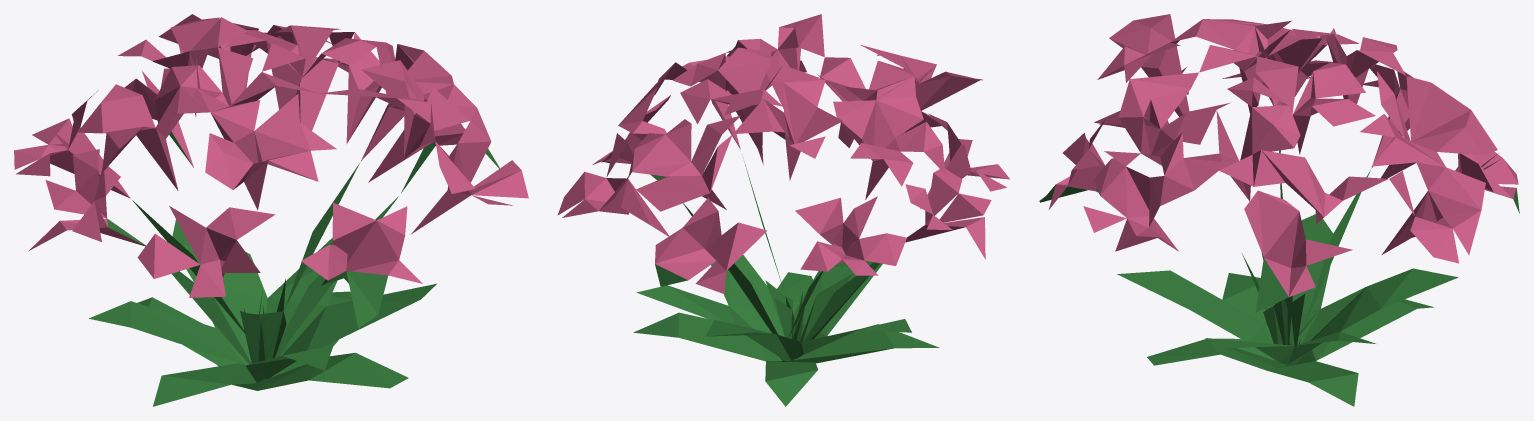
File: flower-1.glb
3 renders of one model, left to right at view 1: azimuth 30°, elevation 25°; view 2: azimuth 150°, elevation 25°; view 3: azimuth 270°, elevation 25°, orthographic. The views are drawn at different scales.
Parts seen in each view (by area): view 1: output_unwrapped; view 2: output_unwrapped; view 3: output_unwrapped.
Boxes of the visible parts, <box> form: output_unwrapped: <box>14,14,528,406</box>; output_unwrapped: <box>557,14,1009,406</box>; output_unwrapped: <box>1039,14,1519,406</box>.
Size of the model in its own units: 0.6 by 0.4544 by 0.5925.
